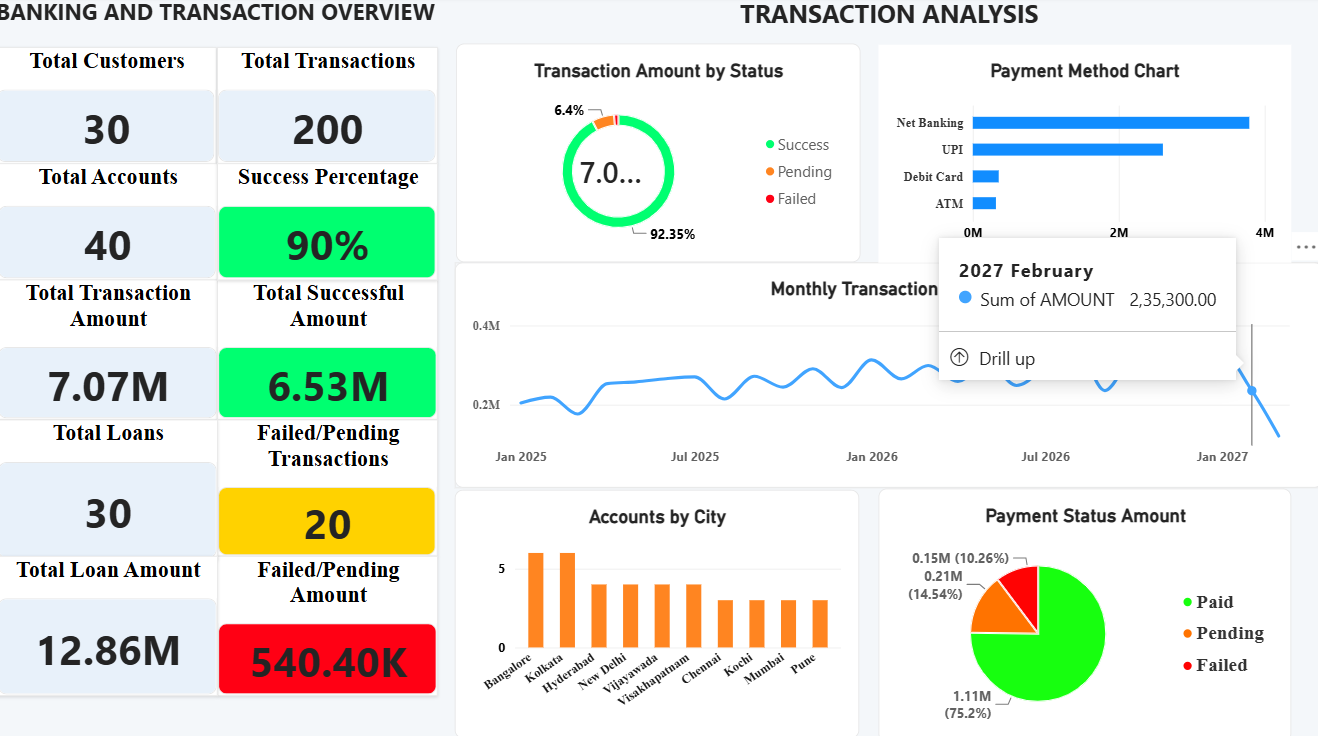

This screenshot's page, from the dashboard's own definition file:
{"tool":"powerbi","page":{"name":"Page 1","canvas":[1280,720],"ordinal":0},"visuals":[{"type":"cardVisual","title":"Total Customers","fields":{"Data":["BA_ACCOUNT.Total Customers"]},"box":[0,48.9,212.8,112.5],"z":0},{"type":"cardVisual","title":"Total Accounts","fields":{"Data":["BA_CUSTOMER.Total Accounts"]},"box":[1.2,161.4,212.8,112.5],"z":1000},{"type":"cardVisual","title":"Total Transaction Amount","fields":{"Data":["BA_CUSTOMER.Total transsaction Amount"]},"box":[1.2,273.9,213,135],"z":2000},{"type":"cardVisual","title":"Total Successful Amount","fields":{"Data":["BA_CUSTOMER.Total Successful Amount"]},"box":[214,273.9,213,135],"z":3000},{"type":"cardVisual","title":"Failed/Pending Transactions","fields":{"Data":["BA_ACCOUNT.Failed+Pending Transactions"]},"box":[214,408.4,212.8,132.1],"z":4000},{"type":"cardVisual","title":"Total Transactions","fields":{"Data":["BA_CUSTOMER.Total Transactions"]},"box":[214,48.9,212.8,112.5],"z":5000},{"type":"cardVisual","title":"Failed/Pending Amount","fields":{"Data":["BA_ACCOUNT.Failed+Pending Amount"]},"box":[214,540.5,213,135],"z":6000},{"type":"cardVisual","title":"Total Loans","fields":{"Data":["BA_ACCOUNT.Total Loans"]},"box":[1.2,408.4,213,135],"z":7000},{"type":"cardVisual","title":"Total Loan Amount","fields":{"Data":["BA_ACCOUNT.Total Loan Amount"]},"box":[1.2,540.5,213,135],"z":8000},{"type":"cardVisual","title":"Success Percentage","fields":{"Data":["BA_ACCOUNT.Successful Transaction Percentage"]},"box":[214,161.4,212.8,112.5],"z":9000},{"type":"textbox","box":[0,0,443.9,48.9],"z":10000},{"type":"textbox","box":[443.9,0,836.4,46.5],"z":11000},{"type":"donutChart","title":"Transaction Amount by Status","fields":{"Category":["BA_TRANSACTION.STATUS"],"Y":["Sum(BA_TRANSACTION.AMOUNT)"]},"box":[443.8,46.2,390,211.2],"z":12000},{"type":"lineChart","title":"Monthly Transaction Amount","fields":{"Y":["Sum(BA_TRANSACTION.AMOUNT)"],"Category":["BA_TRANSACTION.TRANSACTION_DATE.Variation.Date Hierarchy.Year","BA_TRANSACTION.TRANSACTION_DATE.Variation.Date Hierarchy.Month"]},"box":[442.5,257.5,837.5,217.5],"z":13000},{"type":"barChart","title":"Payment Method Chart","fields":{"Category":["BA_TRANSACTION.PAYMENT_METHOD"],"Y":["Sum(BA_TRANSACTION.AMOUNT)"]},"box":[851.2,47.5,398.8,210],"z":14000},{"type":"columnChart","title":"Accounts by City","fields":{"Category":["BA_BRANCH.CITY"],"Y":["CountNonNull(BA_ACCOUNT.ACCOUNT_ID)"]},"box":[442.5,476.2,390,240],"z":15000},{"type":"pieChart","title":"Payment Status Amount","fields":{"Category":["BA_PAYMENT.PAYMENT_STATUS"],"Y":["Sum(BA_PAYMENT.AMOUNT)"]},"box":[851.2,475,398.8,245],"z":16000}]}

Visuals, with their boxes in screenshot pixels (x1, y1, x2, y2), scaled from the page's 1280x720 canvas onto the 1318x736 screenshot:
"Total Customers" cardVisual: bbox(0, 50, 219, 165)
"Total Accounts" cardVisual: bbox(1, 165, 220, 280)
"Total Transaction Amount" cardVisual: bbox(1, 280, 221, 418)
"Total Successful Amount" cardVisual: bbox(220, 280, 440, 418)
"Failed/Pending Transactions" cardVisual: bbox(220, 417, 439, 553)
"Total Transactions" cardVisual: bbox(220, 50, 439, 165)
"Failed/Pending Amount" cardVisual: bbox(220, 553, 440, 691)
"Total Loans" cardVisual: bbox(1, 417, 221, 555)
"Total Loan Amount" cardVisual: bbox(1, 553, 221, 691)
"Success Percentage" cardVisual: bbox(220, 165, 439, 280)
textbox: bbox(0, 0, 457, 50)
textbox: bbox(457, 0, 1317, 48)
"Transaction Amount by Status" donutChart: bbox(457, 47, 859, 263)
"Monthly Transaction Amount" lineChart: bbox(456, 263, 1317, 486)
"Payment Method Chart" barChart: bbox(876, 49, 1287, 263)
"Accounts by City" columnChart: bbox(456, 487, 857, 732)
"Payment Status Amount" pieChart: bbox(876, 486, 1287, 735)
